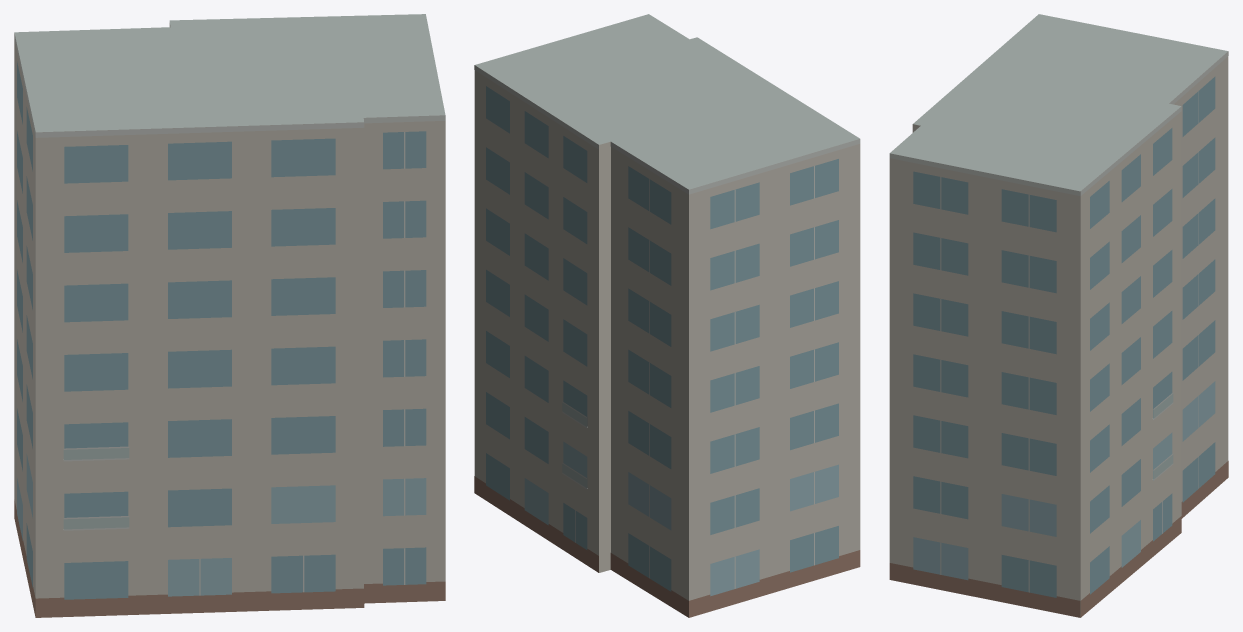
Rendered from survey-upis-32633841.glb.
3 views of the same model, side by side, from view 1: azimuth 30°, elevation 25°; view 2: azimuth 150°, elevation 25°; view 3: azimuth 270°, elevation 25° (orthographic). The views are drawn at different scales.
Parts seen in each view (by area): view 1: survey-upis-32633841.tmp; view 2: survey-upis-32633841.tmp; view 3: survey-upis-32633841.tmp.
Part boxes in pixels (x1=…): survey-upis-32633841.tmp: x1=14, y1=14, x2=445, y2=617; survey-upis-32633841.tmp: x1=474, y1=14, x2=860, y2=617; survey-upis-32633841.tmp: x1=889, y1=14, x2=1228, y2=617.
Bounding box in the file's own units: 19.05 × 21.35 × 15.38.
